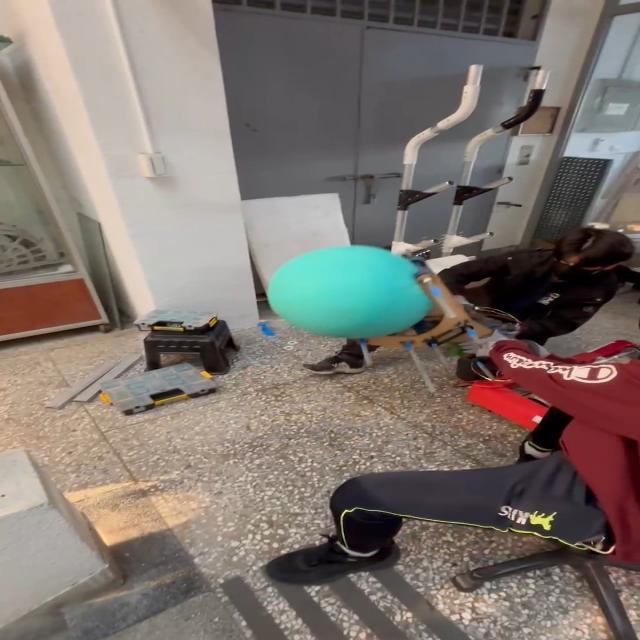ALGAE: (264, 243, 436, 339)
